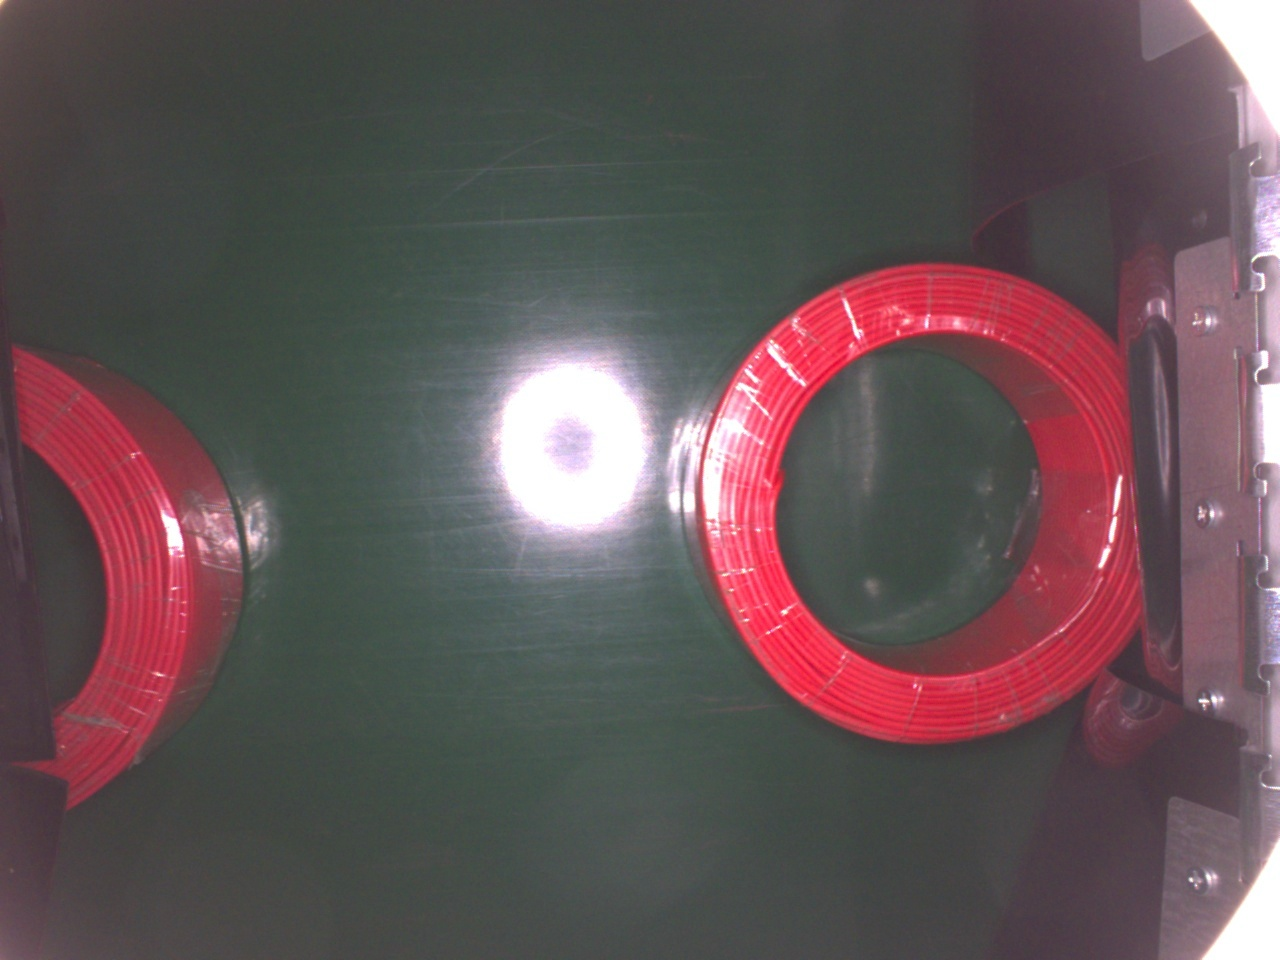red: (685, 259, 1141, 745), (10, 340, 248, 816)
